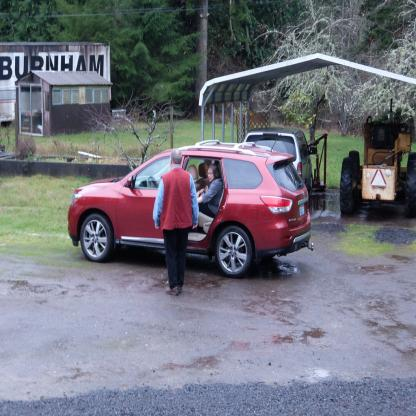Car: (68, 137, 314, 285), (245, 128, 315, 194)
